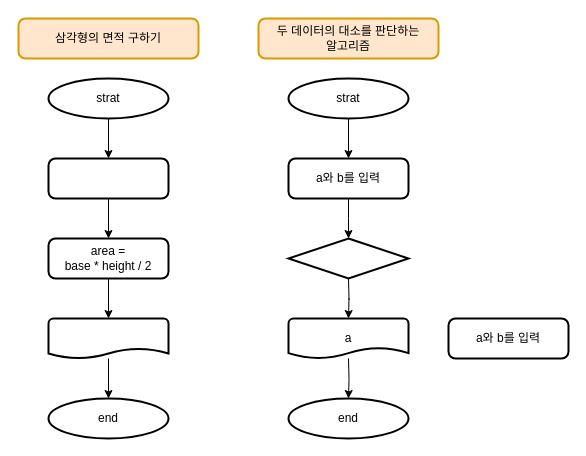
Some shapes in this 586 by 456 pixel diagram are drawn without their labels. The centre of each missing label's shape, as x and y in pixels:
"a > b" belongs at point (348, 258).
"area" belongs at point (108, 338).
"base와 height 입력" belongs at point (108, 178).
